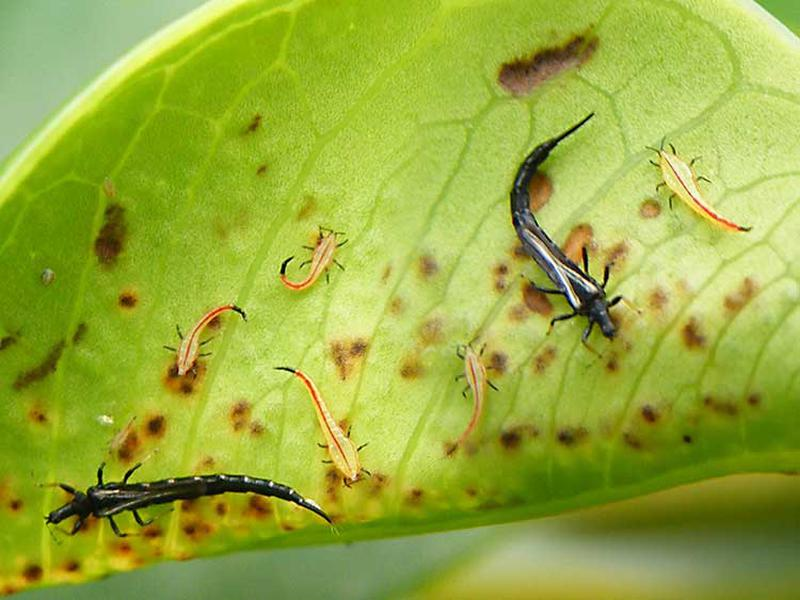Thrips: (496, 134, 636, 349), (34, 469, 359, 552), (654, 139, 773, 247), (142, 283, 257, 388), (275, 360, 362, 456), (441, 329, 488, 468), (270, 221, 348, 300)
